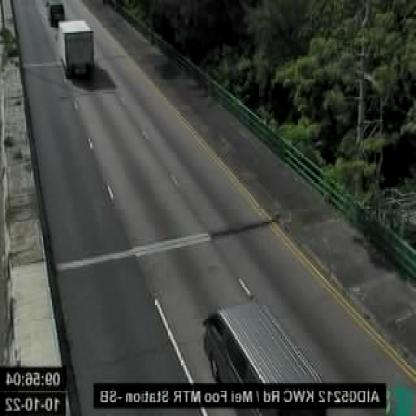Car: (200, 300, 336, 414), (46, 1, 64, 24)
Truck: (60, 16, 92, 78)
